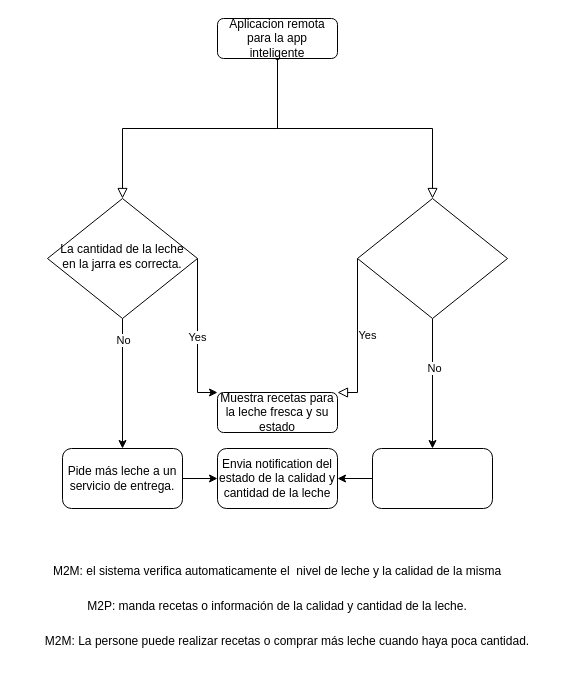
This 564x676 diagram has some shape labels left out. The box of each missing label's shape, as (x1, y1, x2, y2) in pixels:
El Ph de la leche en la jarra es correcto: (356, 198, 508, 318)
Muestra recetas para la leche echada a perder: (372, 448, 492, 508)
